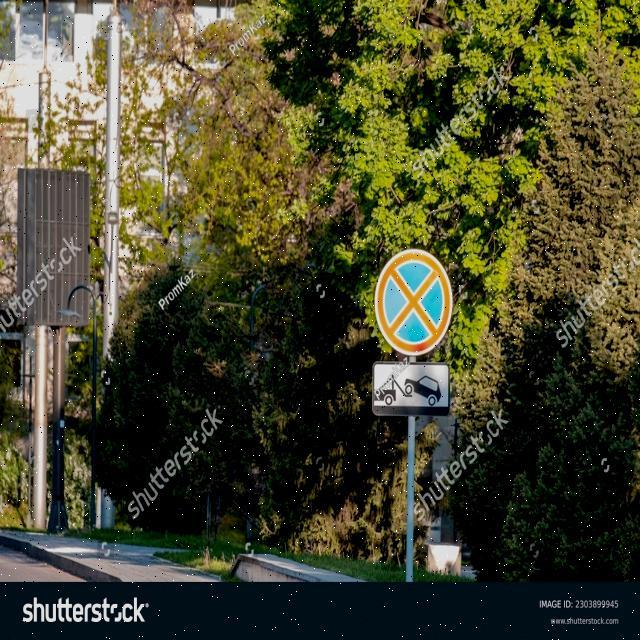Traffic sign: (363, 244, 458, 421)
